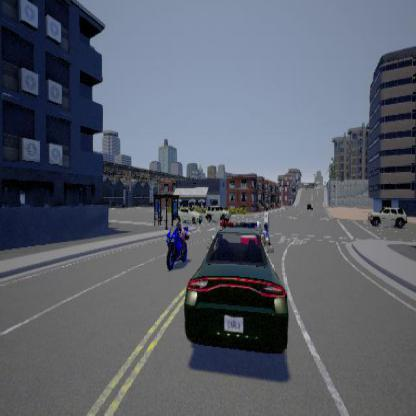bike: (262, 208, 271, 244)
motobike: (164, 224, 188, 268)
vehicle: (184, 222, 288, 353), (367, 206, 407, 228), (204, 203, 230, 222), (178, 207, 202, 223)
